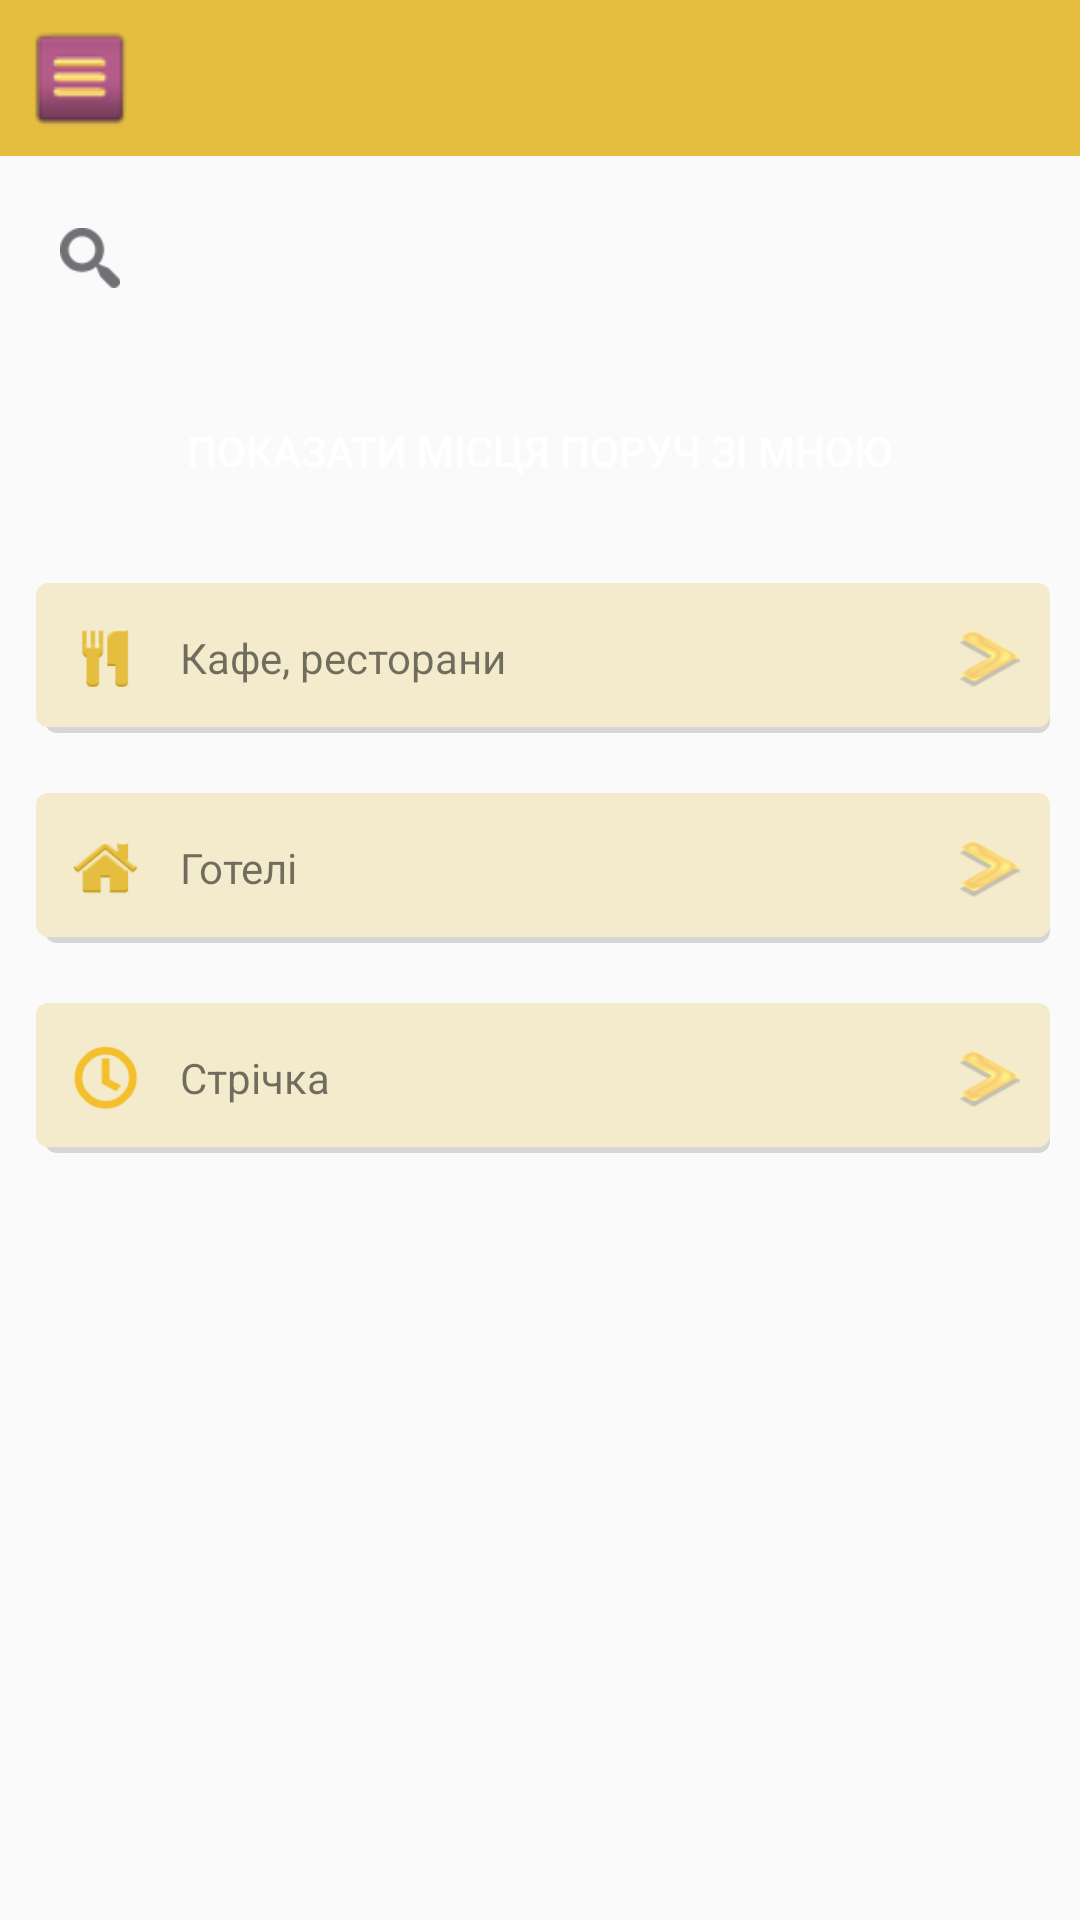

Icons on this 1080×1920 Android screen, each with its box as box(x1, y1, x2, y2):
arrow: box(960, 631, 1020, 686), box(960, 841, 1020, 896), box(960, 1051, 1020, 1106)
hotels: box(73, 843, 138, 893)
lens search: box(60, 228, 120, 288)
restaraunt: box(82, 630, 128, 687)
